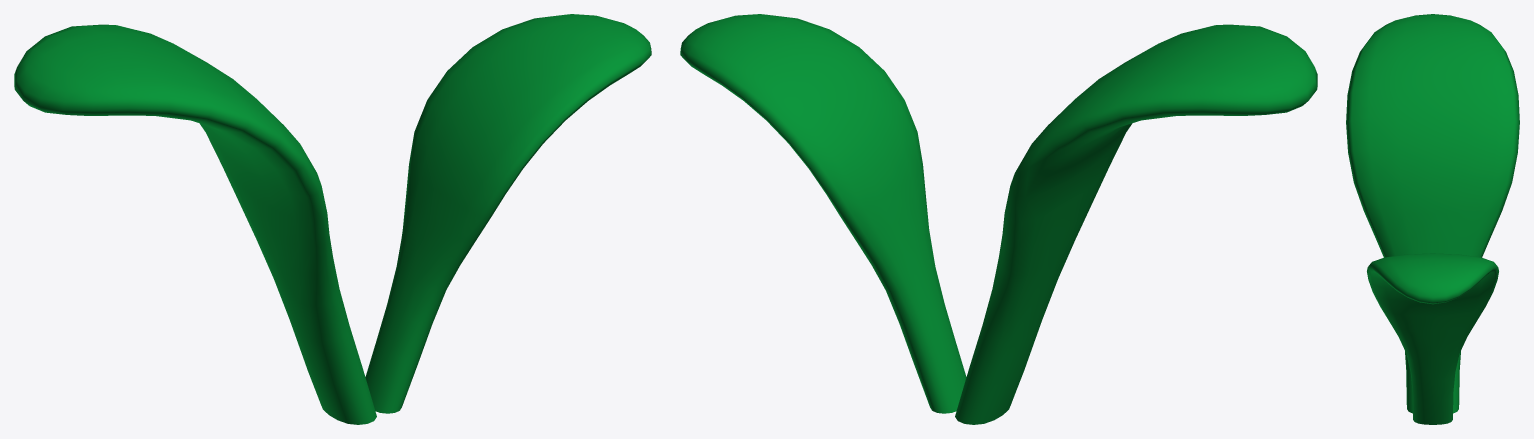
The model's file is Farm_12_Plant_1.glb.
The picture shows the model from 3 angles, left to right: view 1: azimuth 30°, elevation 25°; view 2: azimuth 150°, elevation 25°; view 3: azimuth 270°, elevation 25°; orthographic projection. The views are drawn at different scales.
Parts seen in each view (by area): view 1: Farm_12_Plant_1; view 2: Farm_12_Plant_1; view 3: Farm_12_Plant_1.
Boxes of the visible parts, left/top/right/bottom form: Farm_12_Plant_1: left=14, top=14, right=651, bottom=424; Farm_12_Plant_1: left=680, top=14, right=1317, bottom=424; Farm_12_Plant_1: left=1346, top=14, right=1519, bottom=424.
Bounding box in the file's own units: 0.6151 × 0.398 × 0.212.
Materials: 1 (1 with a texture image).
